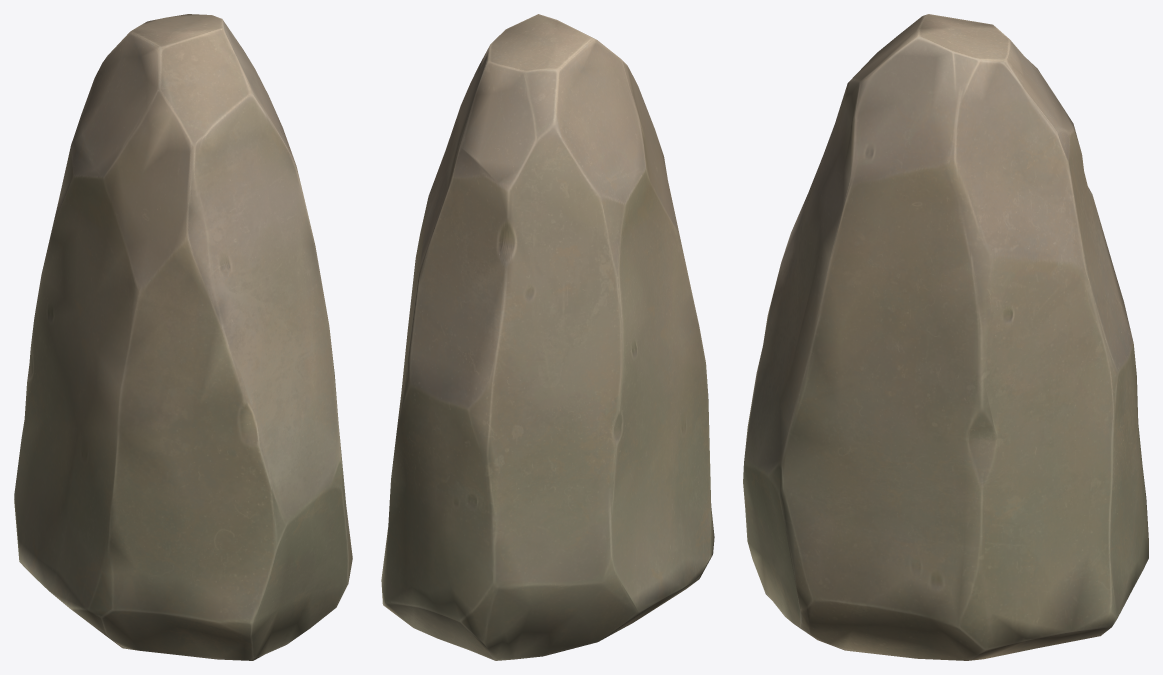
File: SM_Rock_Medium_2.fbx
3 renders of one model, left to right at view 1: azimuth 30°, elevation 25°; view 2: azimuth 150°, elevation 25°; view 3: azimuth 270°, elevation 25°, orthographic. The views are drawn at different scales.
Parts seen in each view (by area): view 1: SM_Rock_Medium_2_LOD0; view 2: SM_Rock_Medium_2_LOD0; view 3: SM_Rock_Medium_2_LOD0.
Part boxes in pixels (x1,y1,x2,y2): SM_Rock_Medium_2_LOD0: (14,14,352,660); SM_Rock_Medium_2_LOD0: (381,14,714,660); SM_Rock_Medium_2_LOD0: (743,14,1148,660).
Size of the model in its own units: 90.69 by 113 by 180.
1 material, 1 textured.
